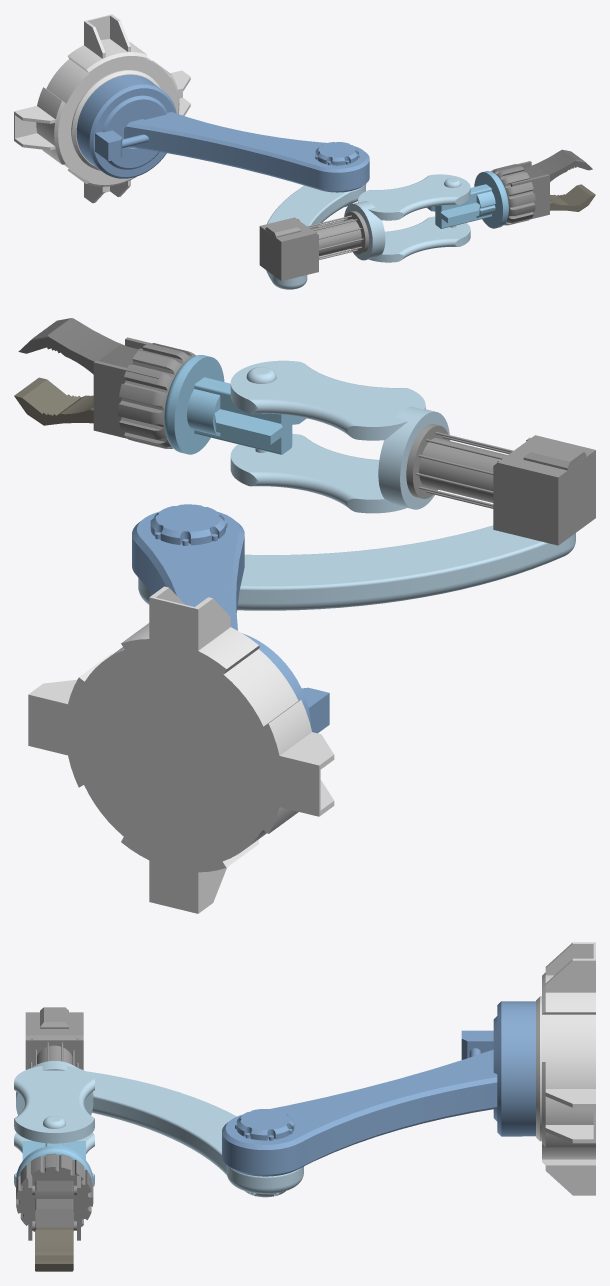
The model's file is Rob_Robotic_gripper.obj.
The picture shows the model from 3 angles, top to bottom: view 1: azimuth 30°, elevation 25°; view 2: azimuth 150°, elevation 25°; view 3: azimuth 270°, elevation 25°; orthographic projection. The views are drawn at different scales.
Parts seen in each view (by area): view 1: mesh263, mesh126, mesh282, mesh529, mesh251, mesh266, mesh553, mesh337, mesh198, mesh253, mesh358, mesh258 (+19 smaller); view 2: mesh159, mesh198, mesh529, mesh282, mesh553, mesh338, mesh205, mesh358, mesh128, mesh336, mesh208, mesh546 (+23 smaller); view 3: mesh282, mesh255, mesh251, mesh198, mesh529, mesh127, mesh258, mesh203, mesh145, mesh172, mesh254, mesh189 (+21 smaller).
Boxes of the visible parts, x1,y1,x2,y2 form: mesh263: (124,126,317,188); mesh126: (58,56,178,185); mesh282: (129,112,366,168); mesh529: (358,174,470,212); mesh251: (76,75,161,170); mesh266: (105,99,165,167); mesh553: (382,216,470,254); mesh337: (281,233,318,280); mesh198: (268,186,345,225); mesh253: (93,88,174,177); mesh358: (311,219,361,256); mesh258: (318,161,369,190); mesh159: (28,597,319,913); mesh198: (240,526,541,586); mesh529: (230,360,425,426); mesh282: (137,511,239,628); mesh553: (230,433,384,499); mesh338: (493,462,558,545); mesh205: (238,539,567,603); mesh358: (419,437,507,502); mesh128: (223,649,298,726); mesh336: (558,450,595,545); mesh208: (237,549,567,610); mesh546: (378,406,434,508); mesh282: (225,1049,497,1144); mesh255: (299,1082,497,1167); mesh251: (501,1001,535,1136); mesh198: (87,1071,235,1151); mesh529: (15,1066,93,1132); mesh127: (542,1014,595,1061); mesh258: (222,1134,299,1174); mesh203: (93,1098,226,1171); mesh145: (545,1062,595,1088); mesh172: (545,960,595,992); mesh254: (296,1077,497,1142); mesh189: (545,1165,595,1195).
Bounding box in the file's own units: 0.2965 × 0.134 × 0.301.
